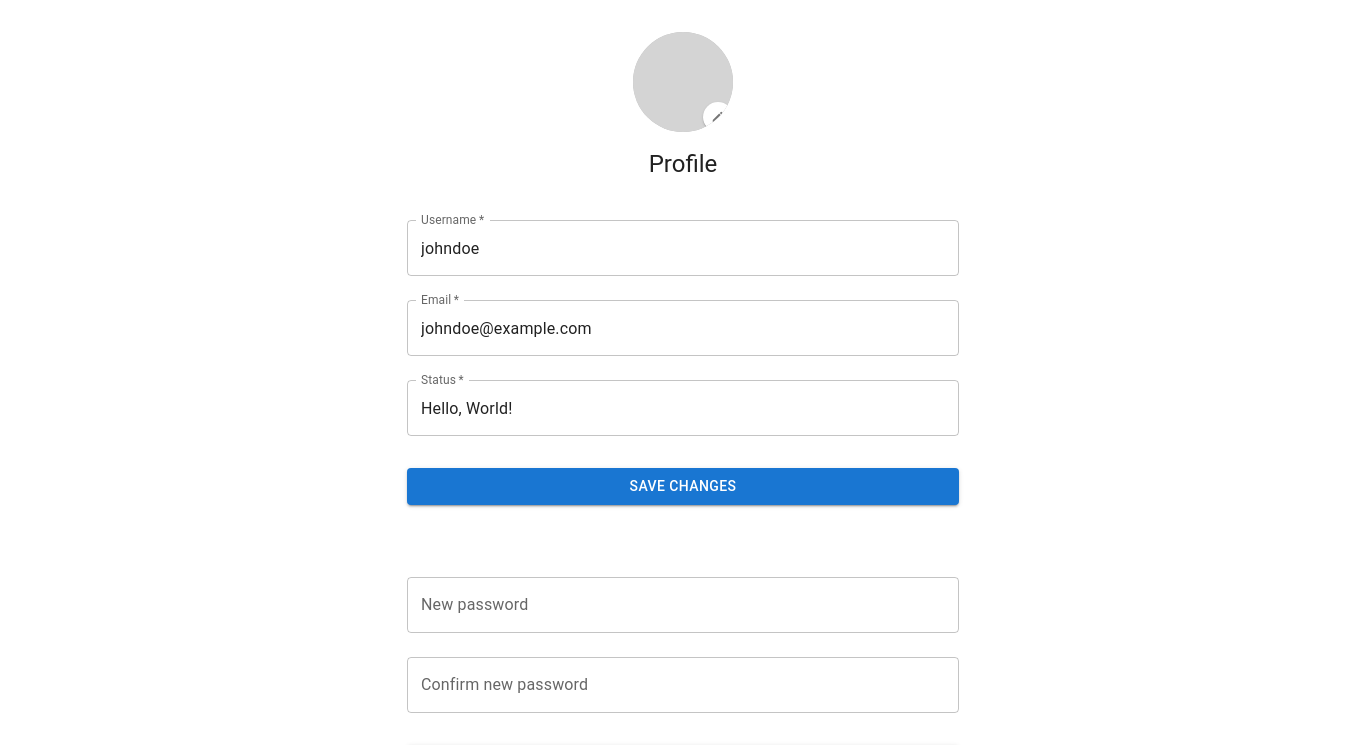
ProfileView › opens the image modal on button click
Click the button named "Change profile picture" at (718,117), box left=711, top=110, right=725, bottom=124
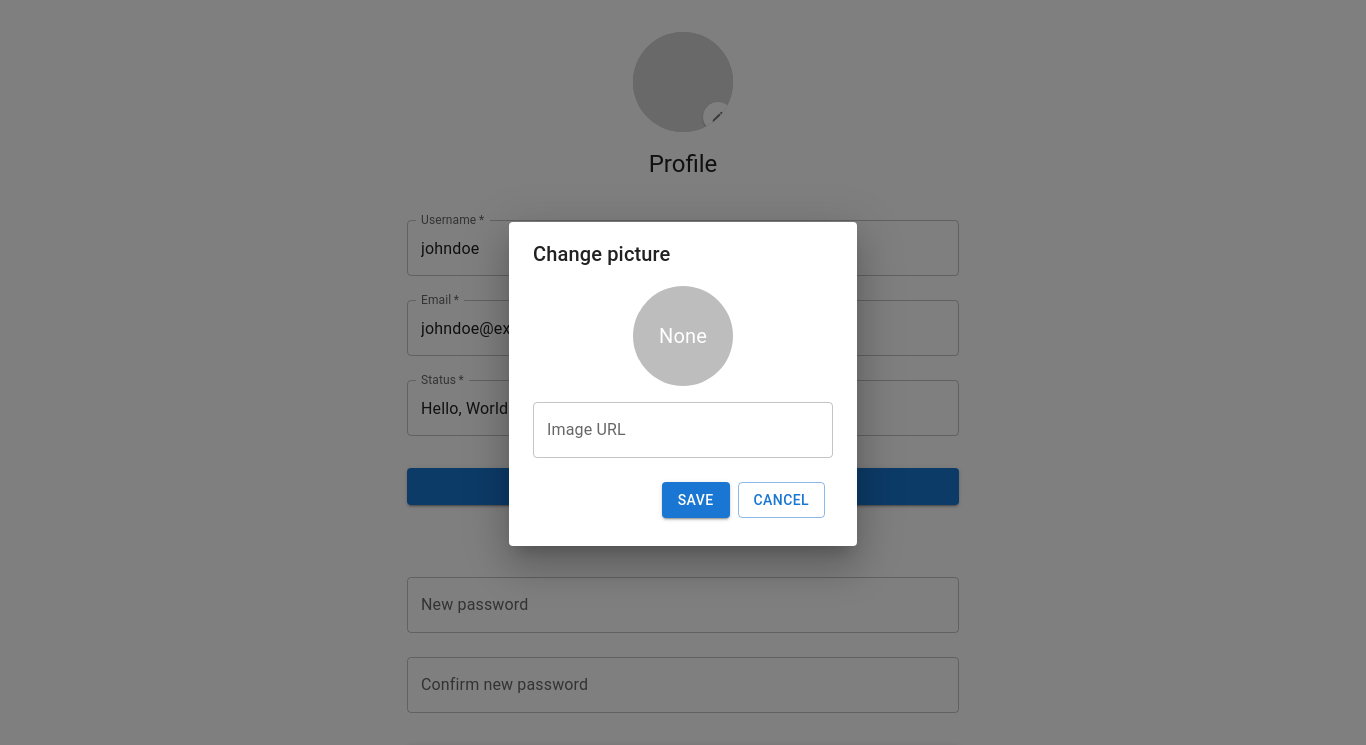
Expected: the dialog is shown, left=509, top=222, right=857, bottom=546
